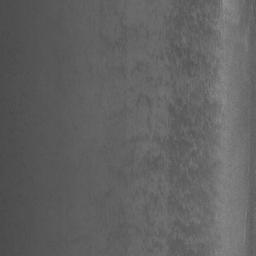Silk spot: (96, 0, 226, 256), (89, 190, 112, 208)
